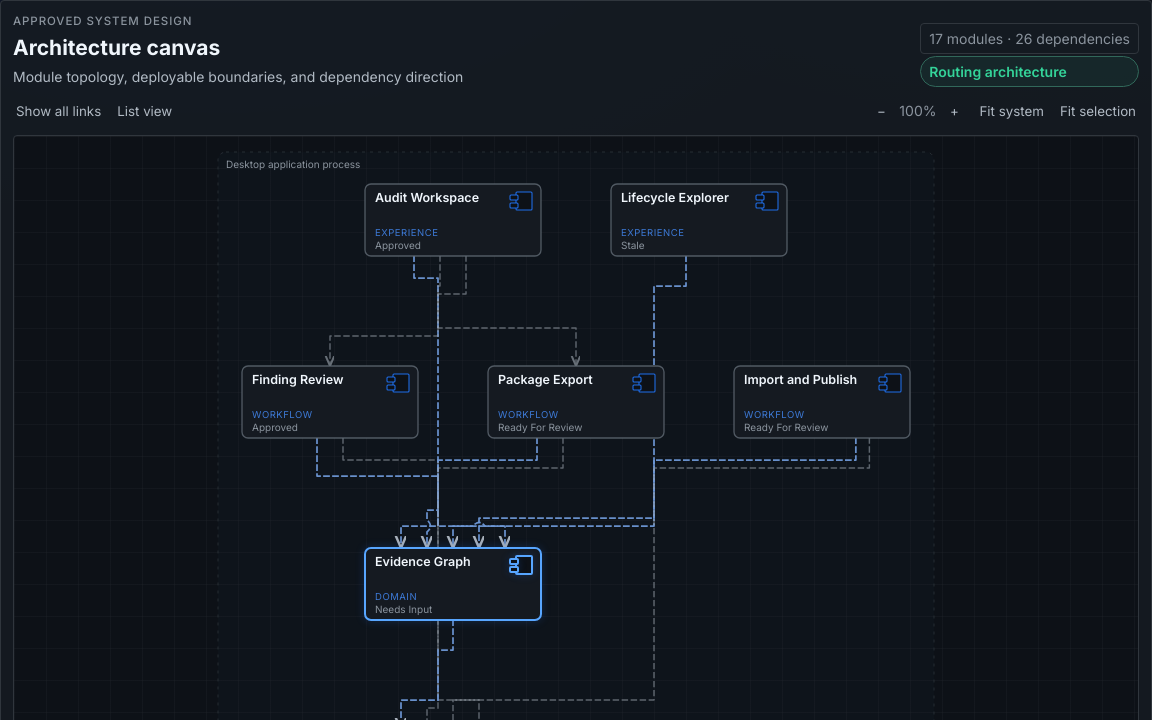
Scenario: System canvas (§8.2) › never breaks selection or the toggle affordances at 200% zoom
Click the button named "Zoom in".
click(954, 111)  # box [938, 95, 970, 127]
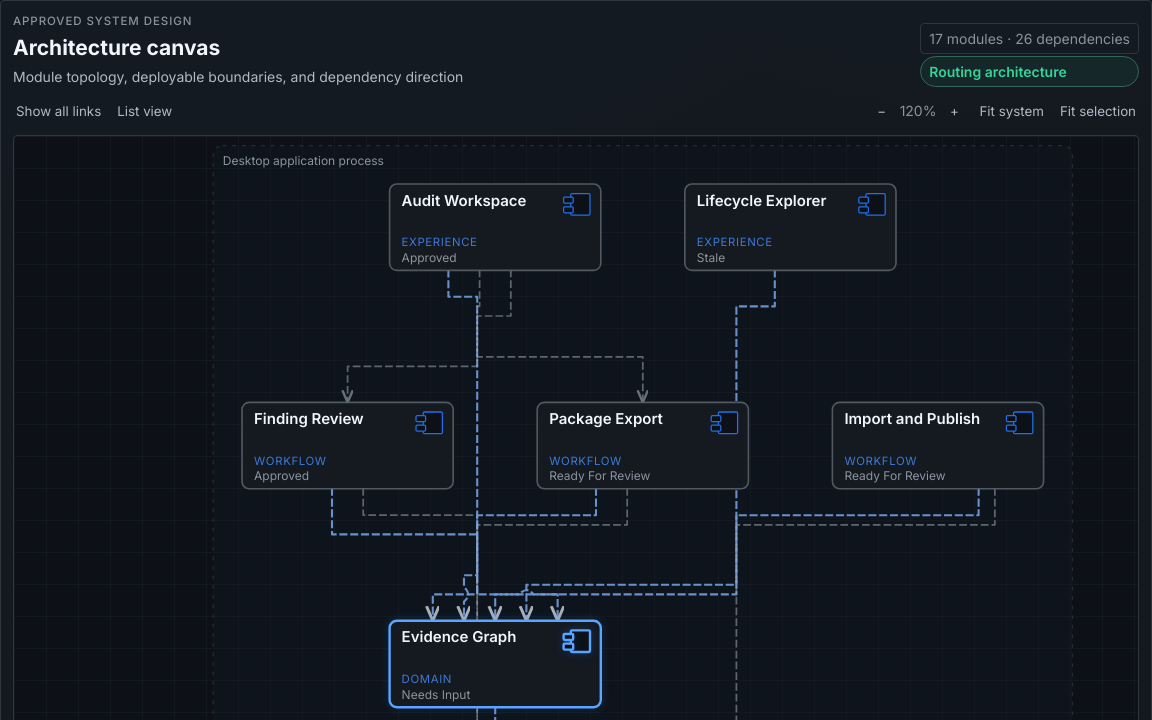
Click the button named "Zoom in".
click(954, 111)  # box [938, 95, 970, 127]
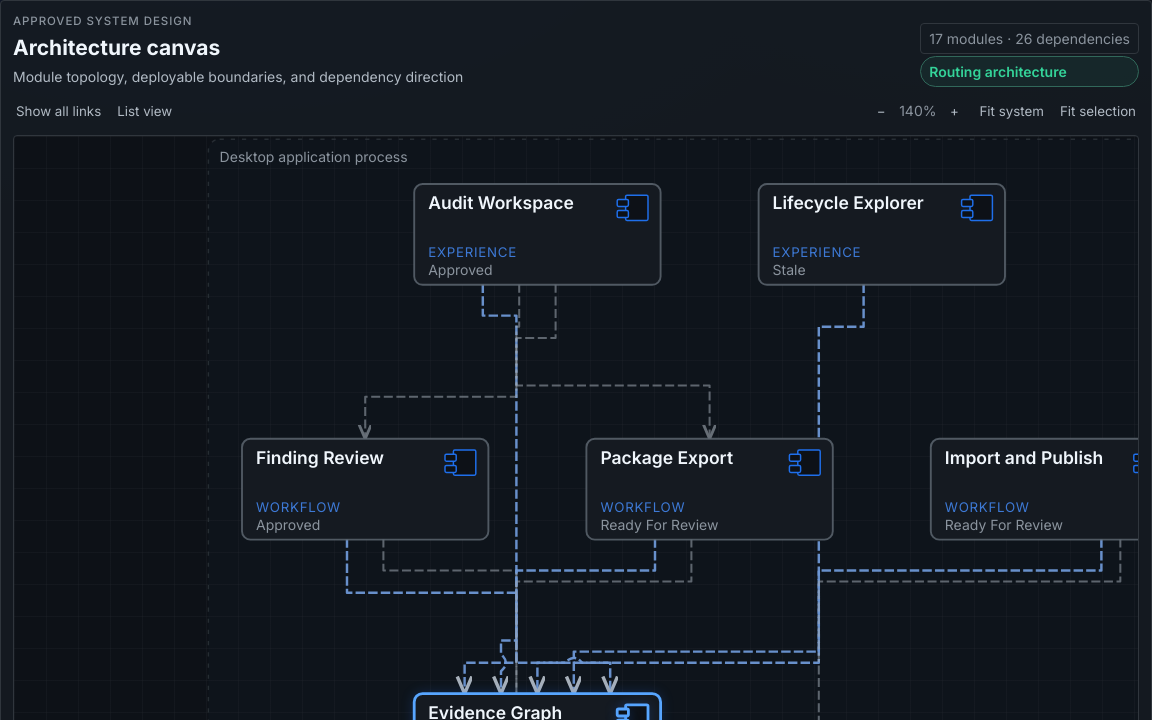
Click the button named "Zoom in".
click(954, 111)  # box [938, 95, 970, 127]
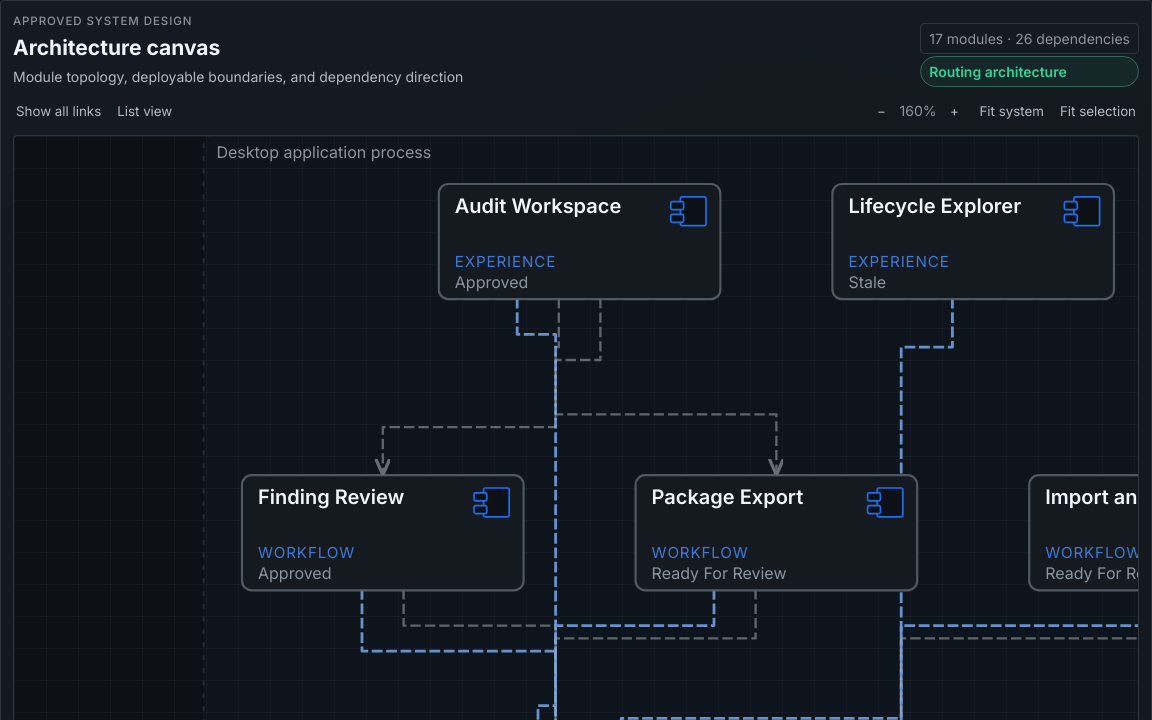
Click the button named "Zoom in".
click(954, 111)  # box [938, 95, 970, 127]
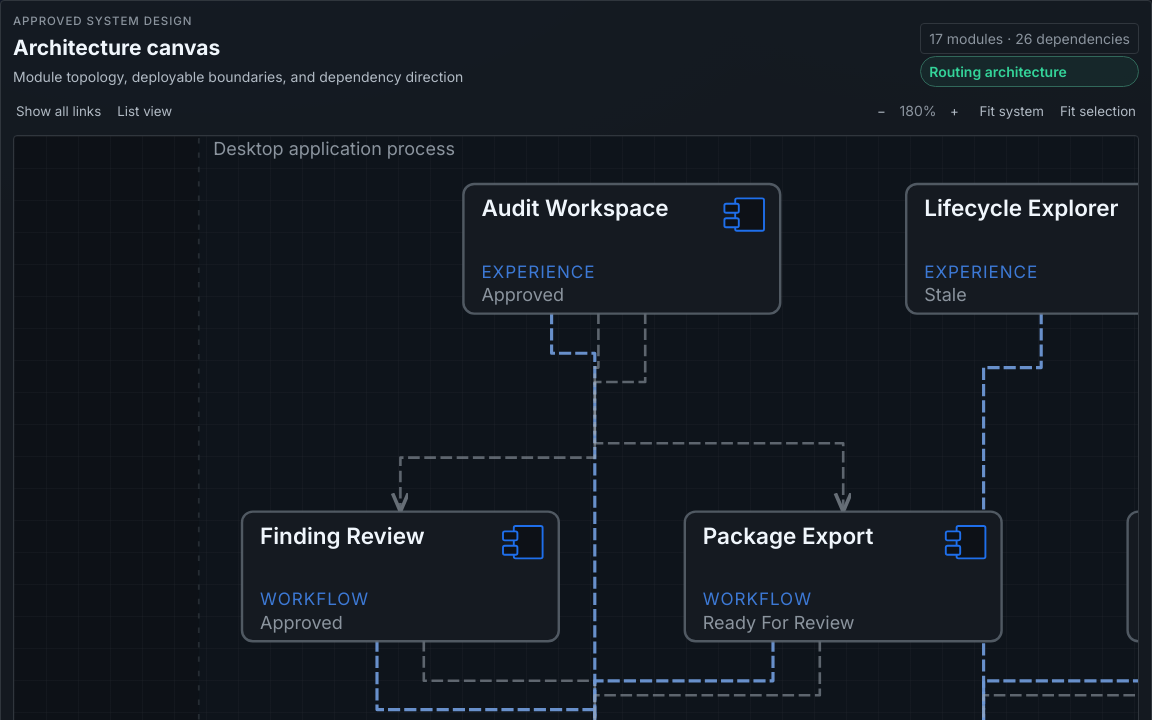
Click the button named "Zoom in".
click(954, 111)  # box [938, 95, 970, 127]
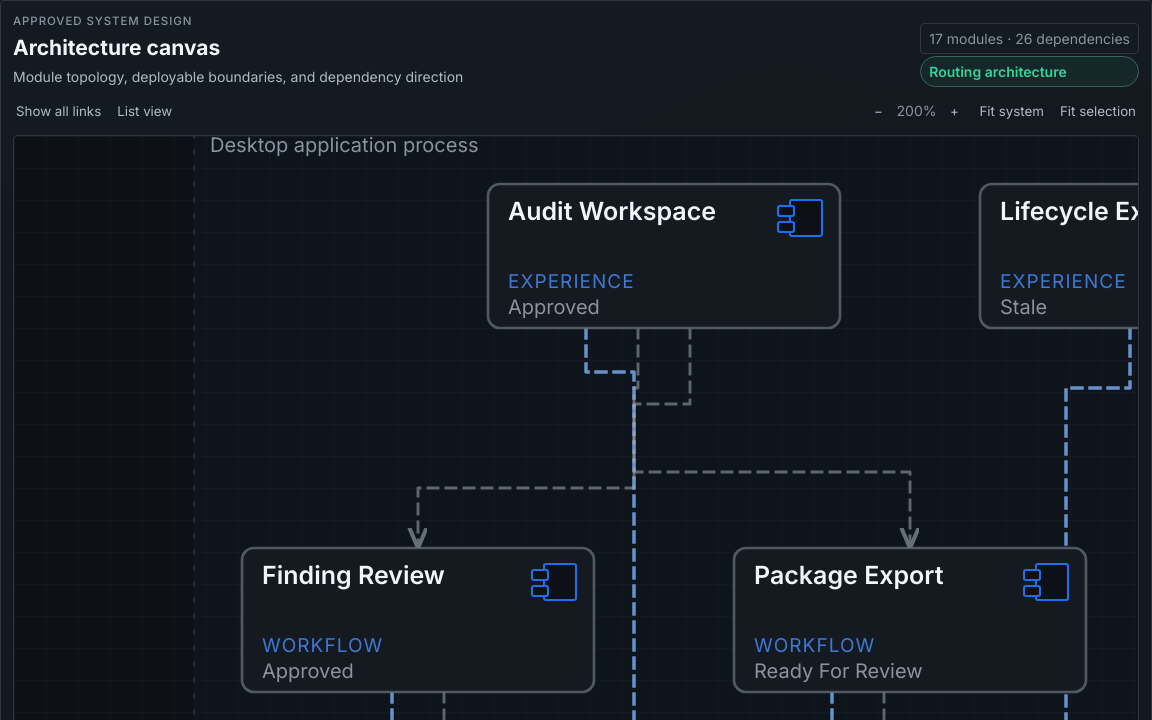
Expected: the button "Show all links" is shown, [9, 95, 108, 127]
Now the text "200%" is shown, box [896, 100, 936, 121]
